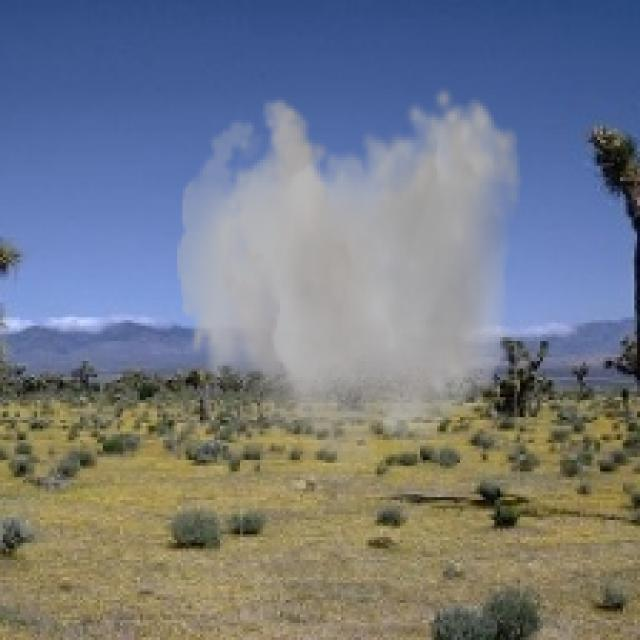Smoke: (177, 86, 523, 500)
